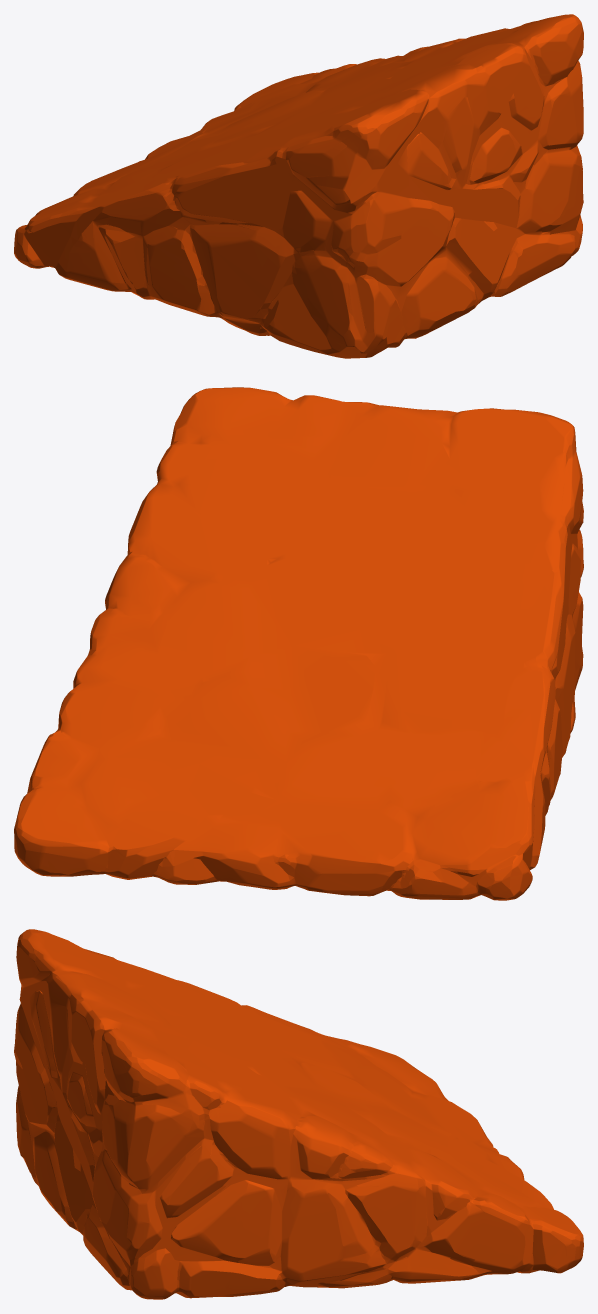
The picture shows the model from 3 angles, top to bottom: view 1: azimuth 30°, elevation 25°; view 2: azimuth 150°, elevation 25°; view 3: azimuth 270°, elevation 25°; orthographic projection. The views are drawn at different scales.
Parts seen in each view (by area): view 1: Mesh_67_LOD0; view 2: Mesh_67_LOD0; view 3: Mesh_67_LOD0.
Part boxes in pixels (left/top/right/bottom): Mesh_67_LOD0: left=14, top=14, right=583, bottom=358; Mesh_67_LOD0: left=14, top=387, right=583, bottom=900; Mesh_67_LOD0: left=14, top=929, right=583, bottom=1299.
Size of what is drawn, in the model's own units: 4883 by 2729 by 5590.
